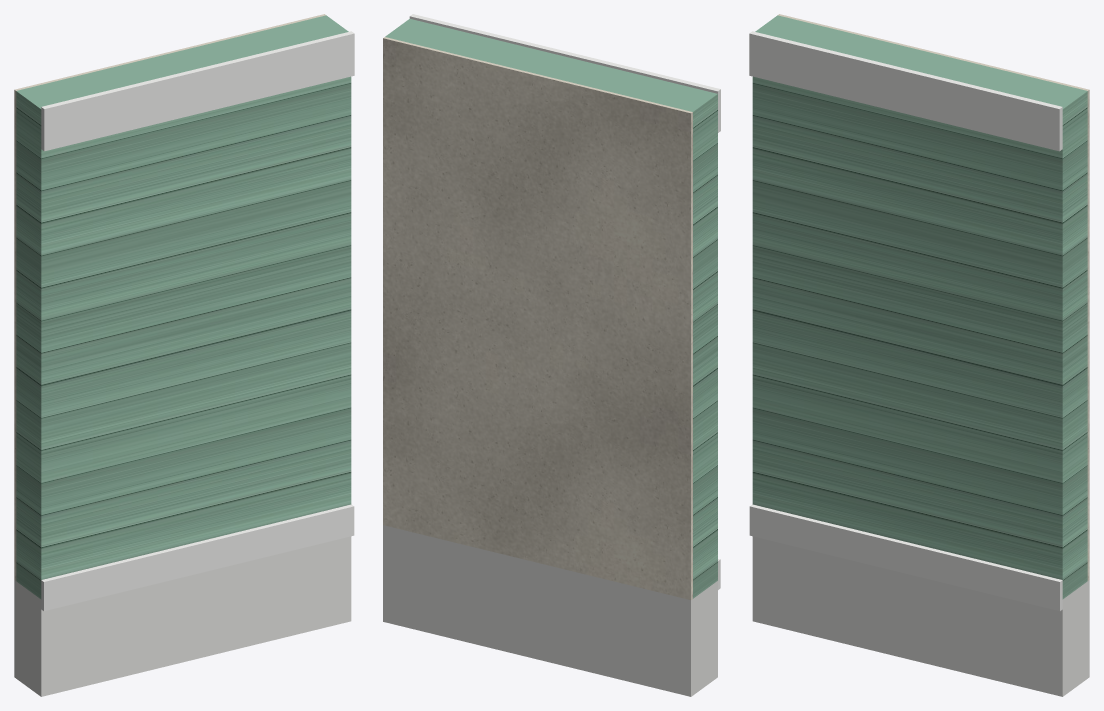
File: wall_c_plain.glb
3 renders of one model, left to right at view 1: azimuth 30°, elevation 25°; view 2: azimuth 150°, elevation 25°; view 3: azimuth 330°, elevation 25°, orthographic.
Parts seen in each view (by area): view 1: wall_c_plain_siding_c, wall_c_plain_lattice, wall_c_plain_trim, wall_c_plain_plaster; view 2: wall_c_plain_plaster, wall_c_plain_lattice, wall_c_plain_siding_c, wall_c_plain_trim; view 3: wall_c_plain_siding_c, wall_c_plain_lattice, wall_c_plain_trim, wall_c_plain_plaster.
Part boxes in pixels (x1,y1,x2,y2): wall_c_plain_siding_c: [16, 15, 351, 599]; wall_c_plain_lattice: [14, 536, 351, 696]; wall_c_plain_trim: [41, 31, 354, 611]; wall_c_plain_plaster: [14, 14, 325, 580]; wall_c_plain_plaster: [383, 37, 692, 599]; wall_c_plain_lattice: [383, 525, 717, 696]; wall_c_plain_siding_c: [385, 19, 717, 598]; wall_c_plain_trim: [409, 14, 720, 589]; wall_c_plain_siding_c: [752, 15, 1087, 599]; wall_c_plain_lattice: [752, 536, 1089, 696]; wall_c_plain_trim: [749, 31, 1062, 611]; wall_c_plain_plaster: [778, 14, 1089, 580].
Bounding box in the file's own units: 2 × 3.63 × 0.335.
4 materials, 2 textured.
